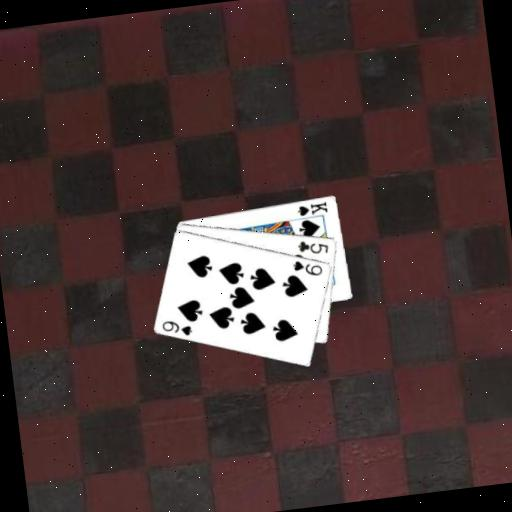5C: (294, 235, 331, 258)
9S: (289, 255, 325, 280), (158, 315, 194, 340)
KS: (294, 198, 330, 218)
